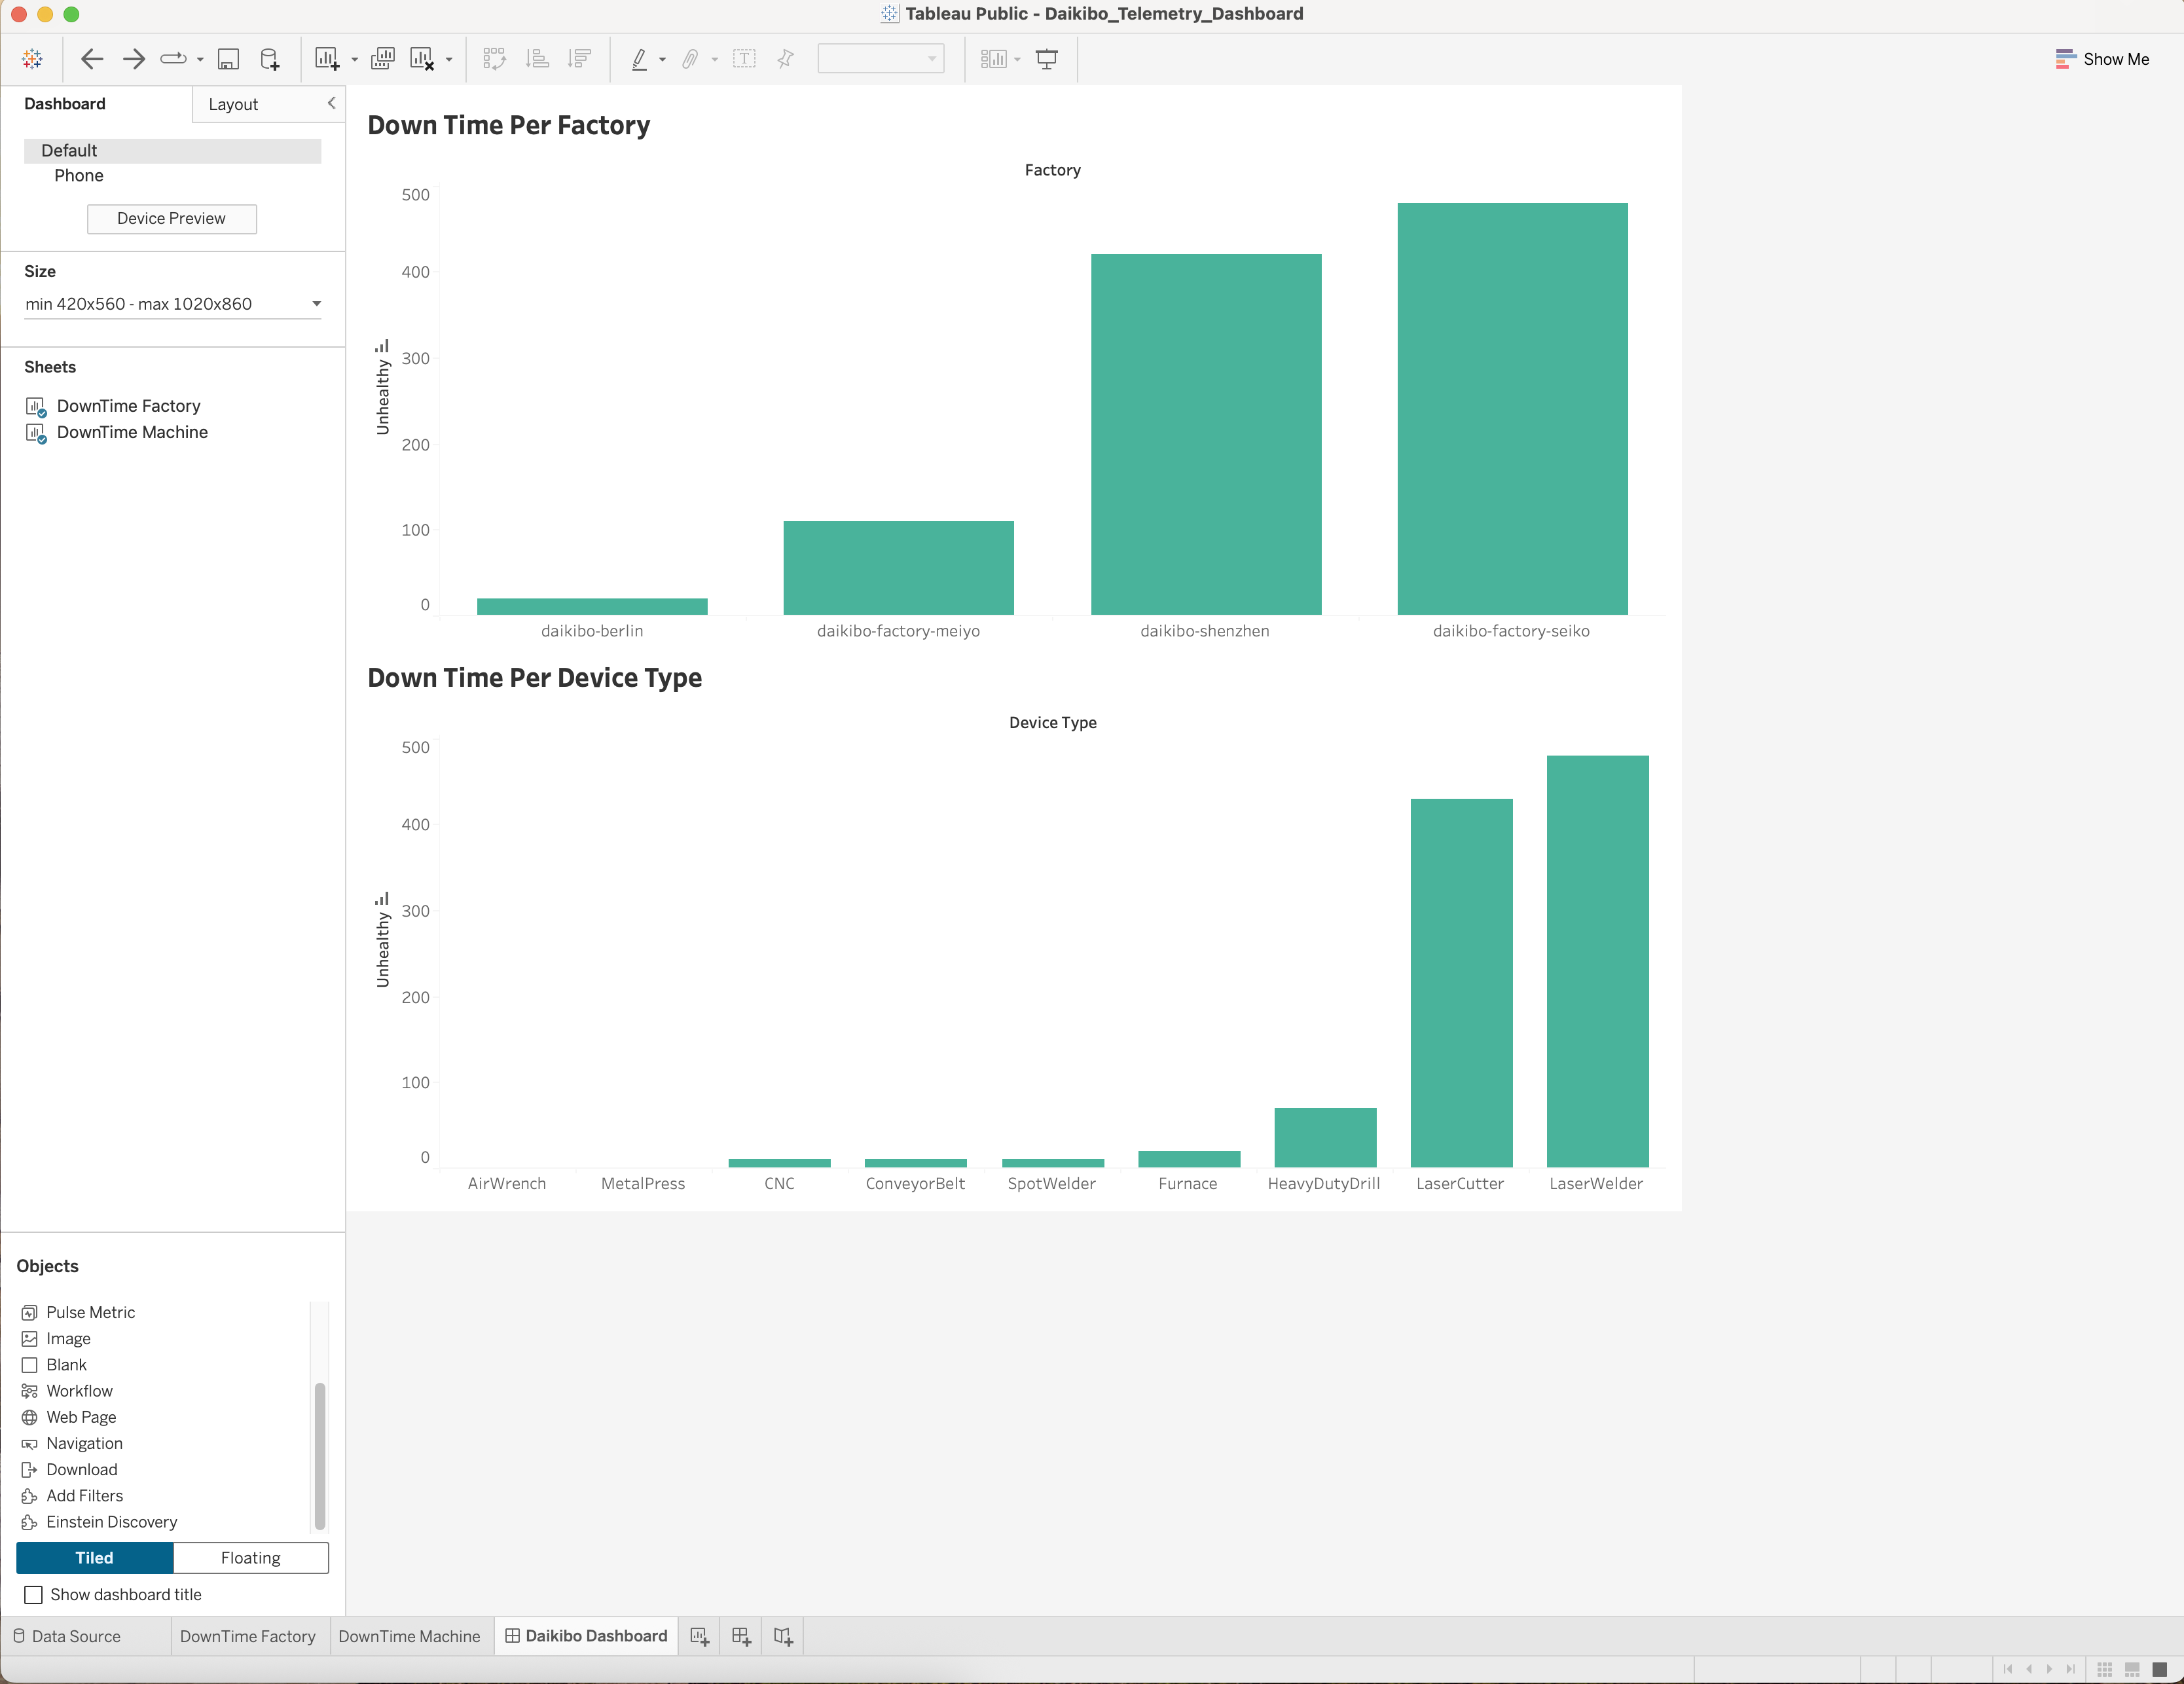

The page's visual inventory and layout, read from the dashboard file:
{"tool":"tableau","page":{"name":"Daikibo Dashboard","canvas":[1000,1000],"units":"permille","ordinal":0},"visuals":[{"type":"worksheet","title":"DownTime Factory","mark":"Automatic","rows":["Calculation_866942933884071937"],"cols":["factory"],"box":[7.8,9.3,984.3,490.7]},{"type":"worksheet","title":"DownTime Machine","mark":"Automatic","rows":["Calculation_866942933884071937"],"cols":["deviceType"],"box":[7.8,500,984.3,490.7]}]}

Visuals, with their boxes on the dashboard's canvas, which has no fixed pixel size, in thousandths of its width and height (x1, y1, x2, y2). These are canvas units, not pixel positions in the 2184x1684 screenshot, which may show the page scaled, cropped or inside an application window:
"DownTime Factory" worksheet: x1=8, y1=9, x2=992, y2=500
"DownTime Machine" worksheet: x1=8, y1=500, x2=992, y2=991
